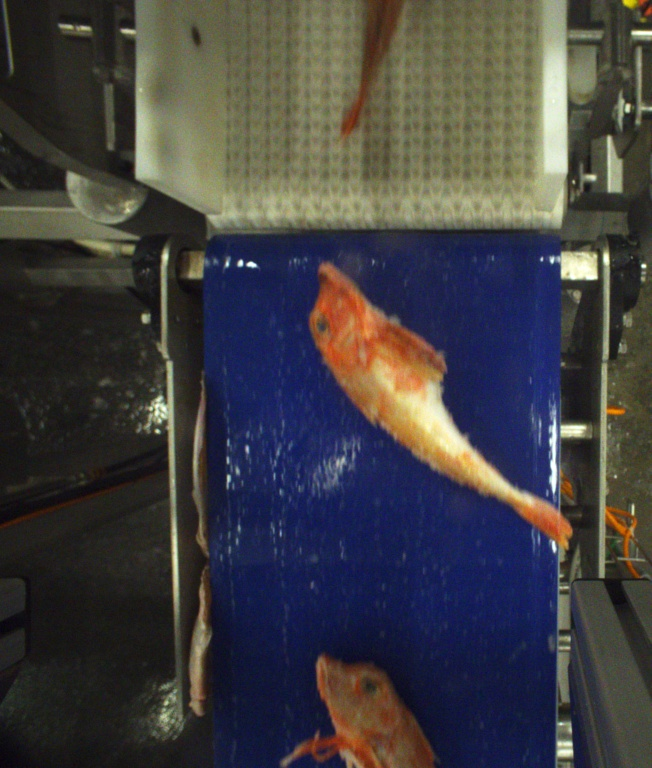GUU: (337, 0, 402, 129)
